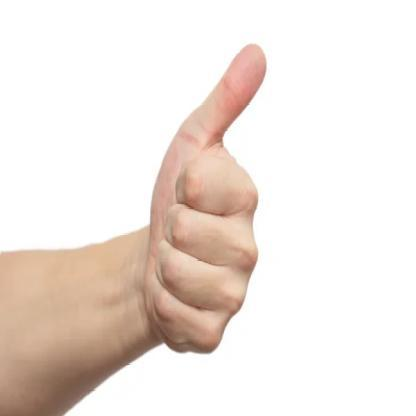thumb_up: (139, 41, 270, 356)
